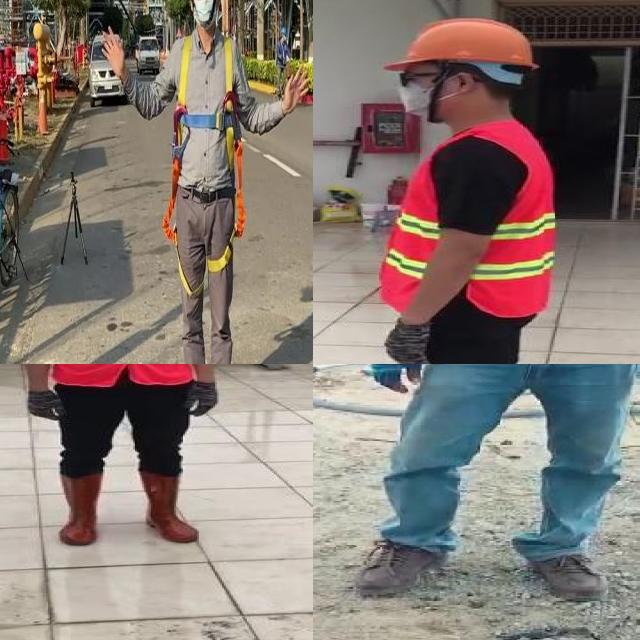Harness: (163, 36, 247, 274)
boots: (133, 469, 201, 545), (55, 471, 101, 547)
face_mask: (383, 68, 472, 119)
hand_glove: (378, 321, 439, 364), (365, 364, 430, 397), (19, 390, 64, 423), (186, 383, 216, 417)
head_helmet: (378, 14, 540, 72)
person: (340, 11, 566, 364), (343, 364, 640, 602), (3, 364, 230, 553)
shoes: (344, 528, 463, 600), (520, 534, 616, 603)
vest: (361, 122, 559, 317)
